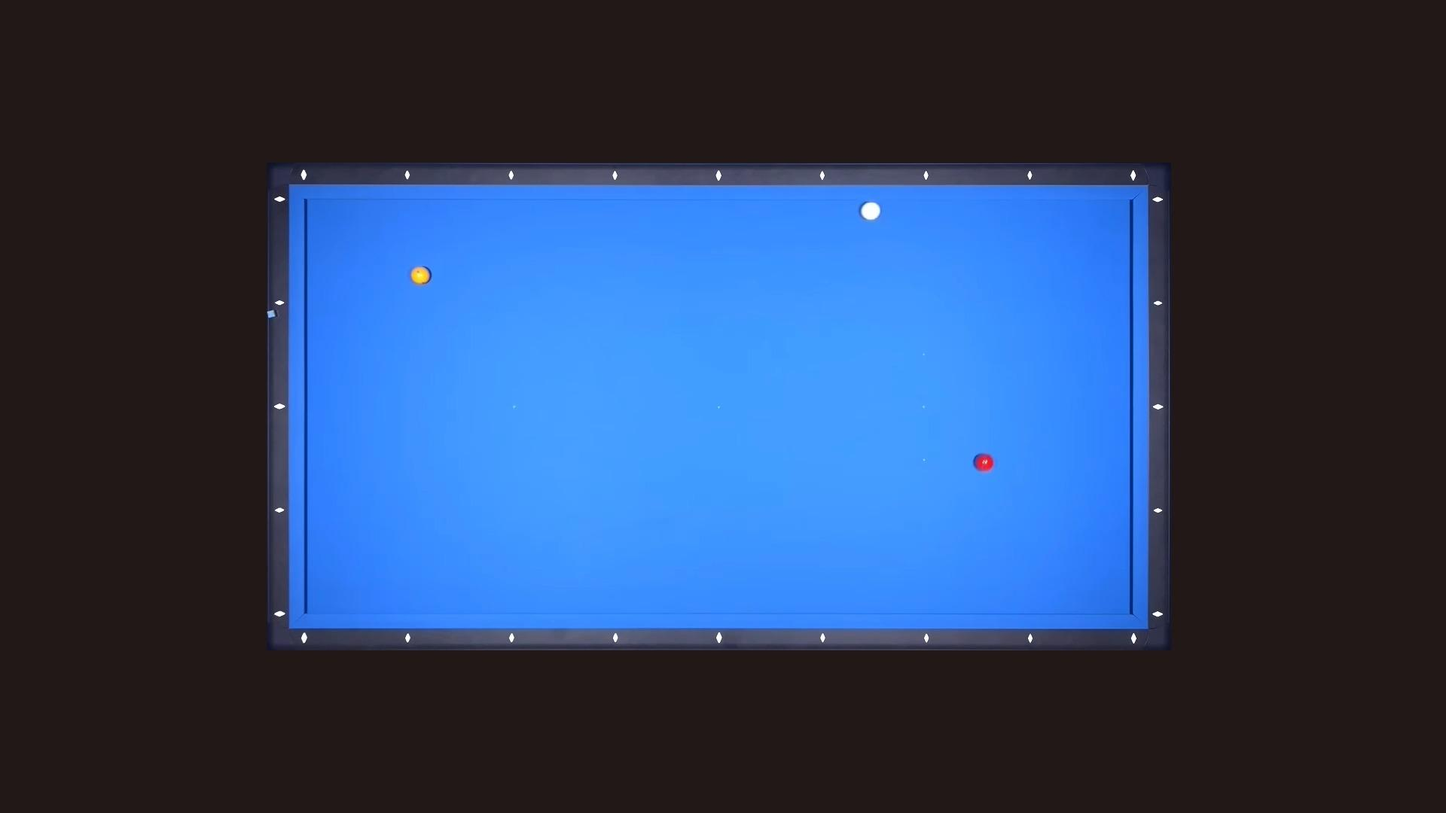Red: (971, 454, 996, 473)
White: (860, 202, 884, 223)
Yellow: (407, 266, 433, 286)
